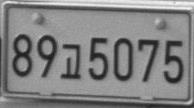0: (112, 37, 133, 81)
5: (162, 39, 184, 84), (87, 37, 108, 81)
7: (137, 38, 159, 82)
8: (11, 32, 33, 77)
9: (36, 33, 57, 77)
고: (60, 43, 82, 79)
